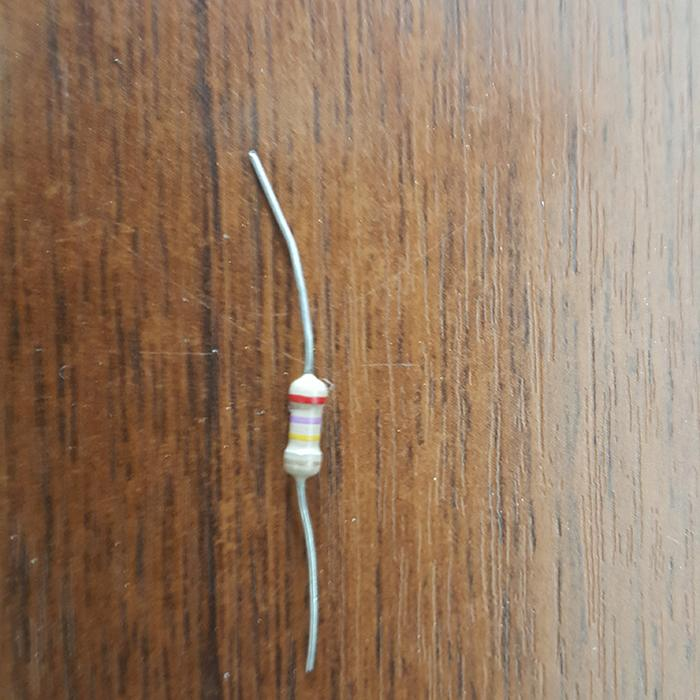resistor: (282, 373, 327, 479)
